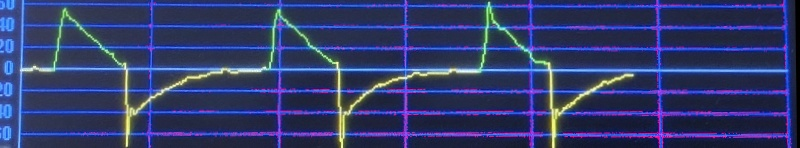normal_flow: (14, 0, 643, 148)
